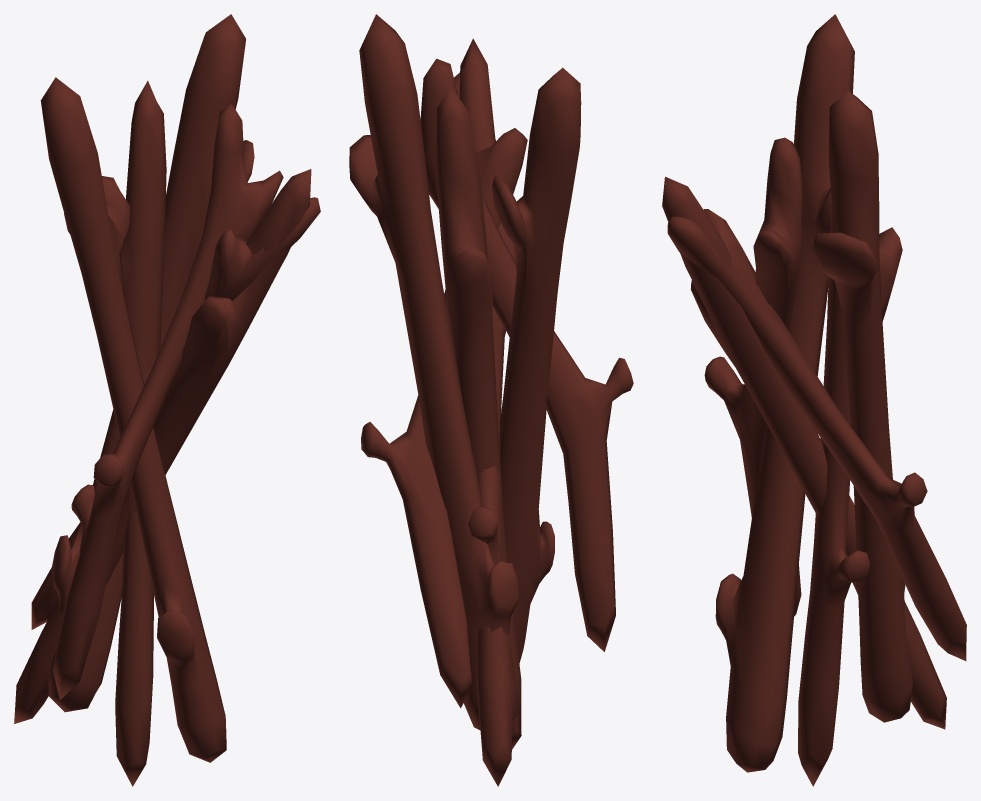
The model's file is twig-13.fbx.
The picture shows the model from 3 angles, left to right: view 1: azimuth 30°, elevation 25°; view 2: azimuth 150°, elevation 25°; view 3: azimuth 270°, elevation 25°; orthographic projection. The views are drawn at different scales.
Parts seen in each view (by area): view 1: twig-13; view 2: twig-13; view 3: twig-13.
Boxes of the visible parts, x1,y1,x2,y2 form: twig-13: [14, 14, 320, 786]; twig-13: [349, 14, 633, 786]; twig-13: [662, 14, 966, 786].
Bounding box in the file's own units: 101 × 310 × 113.
